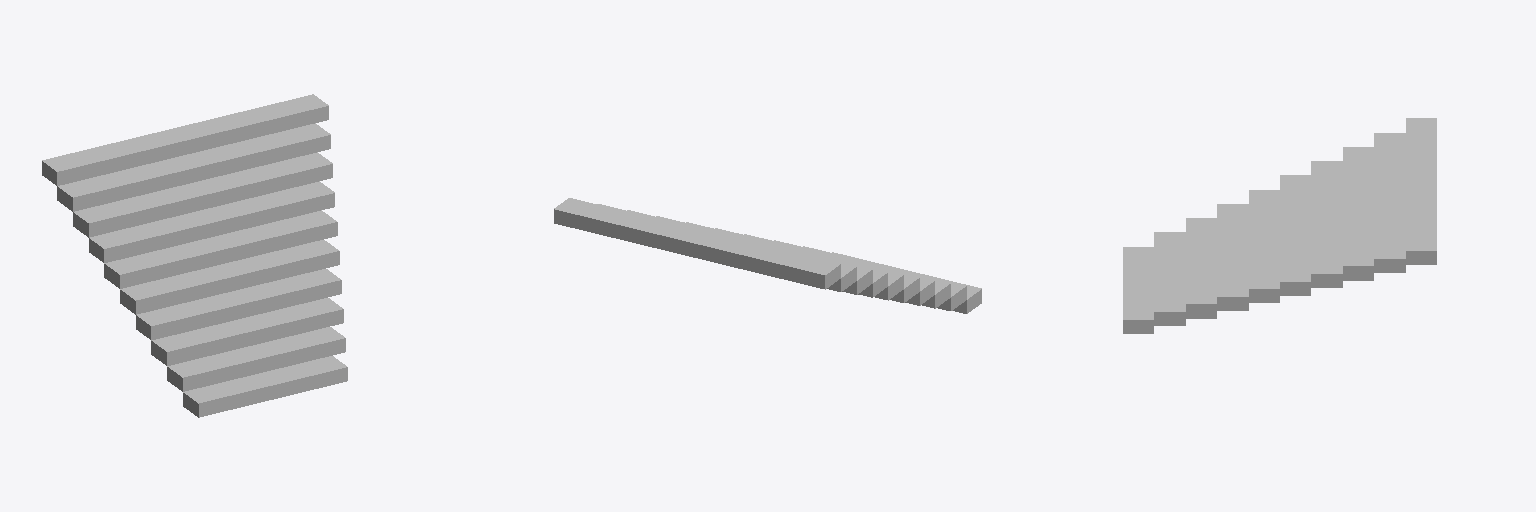
File: Stair_Right.obj
3 renders of one model, left to right at view 1: azimuth 30°, elevation 25°; view 2: azimuth 150°, elevation 25°; view 3: azimuth 270°, elevation 25°, orthographic.
Parts seen in each view (by area): view 1: Cube.001, Cube.000_Cube.002, Cube.002_Cube.003, Cube.003_Cube.004, Cube.004_Cube.005, Cube.005_Cube.006, Cube.006_Cube.007, Cube.007_Cube.008, Cube.008_Cube.009, Cube.009_Cube.010; view 2: Cube.001, Cube.000_Cube.002, Cube.002_Cube.003, Cube.004_Cube.005, Cube.003_Cube.004, Cube.005_Cube.006, Cube.006_Cube.007, Cube.007_Cube.008, Cube.008_Cube.009, Cube.009_Cube.010; view 3: Cube.001, Cube.000_Cube.002, Cube.002_Cube.003, Cube.003_Cube.004, Cube.004_Cube.005, Cube.005_Cube.006, Cube.006_Cube.007, Cube.007_Cube.008, Cube.008_Cube.009, Cube.009_Cube.010.
Part boxes in pixels (x1,y1,x2,y2): Cube.001: (42,94,328,185); Cube.000_Cube.002: (57,123,330,211); Cube.002_Cube.003: (73,152,332,237); Cube.003_Cube.004: (89,181,334,262); Cube.004_Cube.005: (104,210,337,288); Cube.005_Cube.006: (120,240,339,314); Cube.006_Cube.007: (136,269,341,340); Cube.007_Cube.008: (151,298,343,365); Cube.008_Cube.009: (167,327,345,391); Cube.009_Cube.010: (183,356,347,417); Cube.001: (554,198,840,289); Cube.000_Cube.002: (597,204,856,291); Cube.002_Cube.003: (627,210,872,294); Cube.004_Cube.005: (686,222,903,300); Cube.003_Cube.004: (656,216,887,297); Cube.005_Cube.006: (715,228,919,302); Cube.006_Cube.007: (744,234,934,305); Cube.007_Cube.008: (774,240,950,308); Cube.008_Cube.009: (803,246,966,310); Cube.009_Cube.010: (832,252,981,313); Cube.001: (1406,118,1436,264); Cube.000_Cube.002: (1374,133,1405,272); Cube.002_Cube.003: (1343,147,1373,280); Cube.003_Cube.004: (1311,161,1342,287); Cube.004_Cube.005: (1280,175,1310,295); Cube.005_Cube.006: (1249,190,1279,302); Cube.006_Cube.007: (1217,204,1248,310); Cube.007_Cube.008: (1186,218,1216,318); Cube.008_Cube.009: (1154,232,1185,325); Cube.009_Cube.010: (1123,247,1153,333).
Bounding box in the file's own units: 20 × 10 × 20.